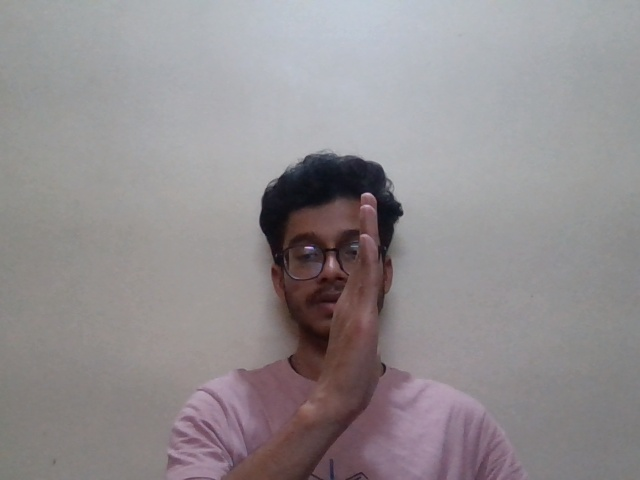fine: (316, 173, 429, 423)
